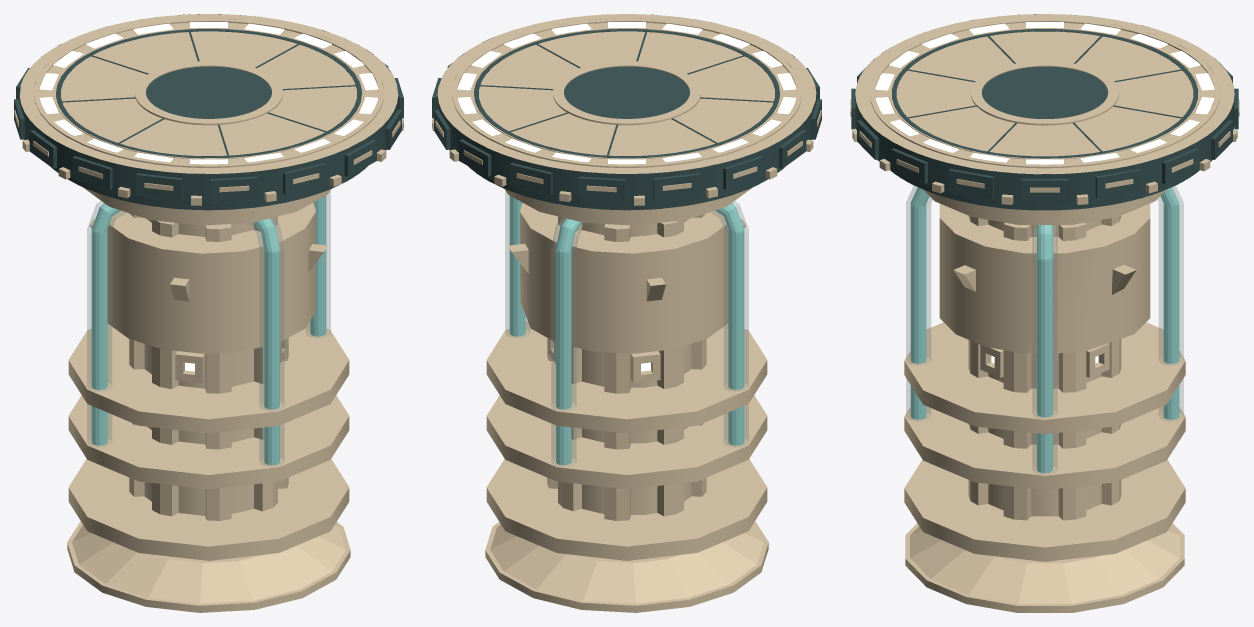
Rendered from Platform_Relay_v3.glb.
3 renders of one model, left to right at view 1: azimuth 30°, elevation 25°; view 2: azimuth 150°, elevation 25°; view 3: azimuth 270°, elevation 25°, orthographic.
Parts seen in each view (by area): view 1: Platform_Relay_v3; view 2: Platform_Relay_v3; view 3: Platform_Relay_v3.
Boxes of the visible parts, box(x1,y1,x2,y2) form: Platform_Relay_v3: box(14, 14, 403, 612); Platform_Relay_v3: box(432, 14, 821, 612); Platform_Relay_v3: box(850, 14, 1239, 612).
Bounding box in the file's own units: 12.32 × 16.11 × 12.32.
